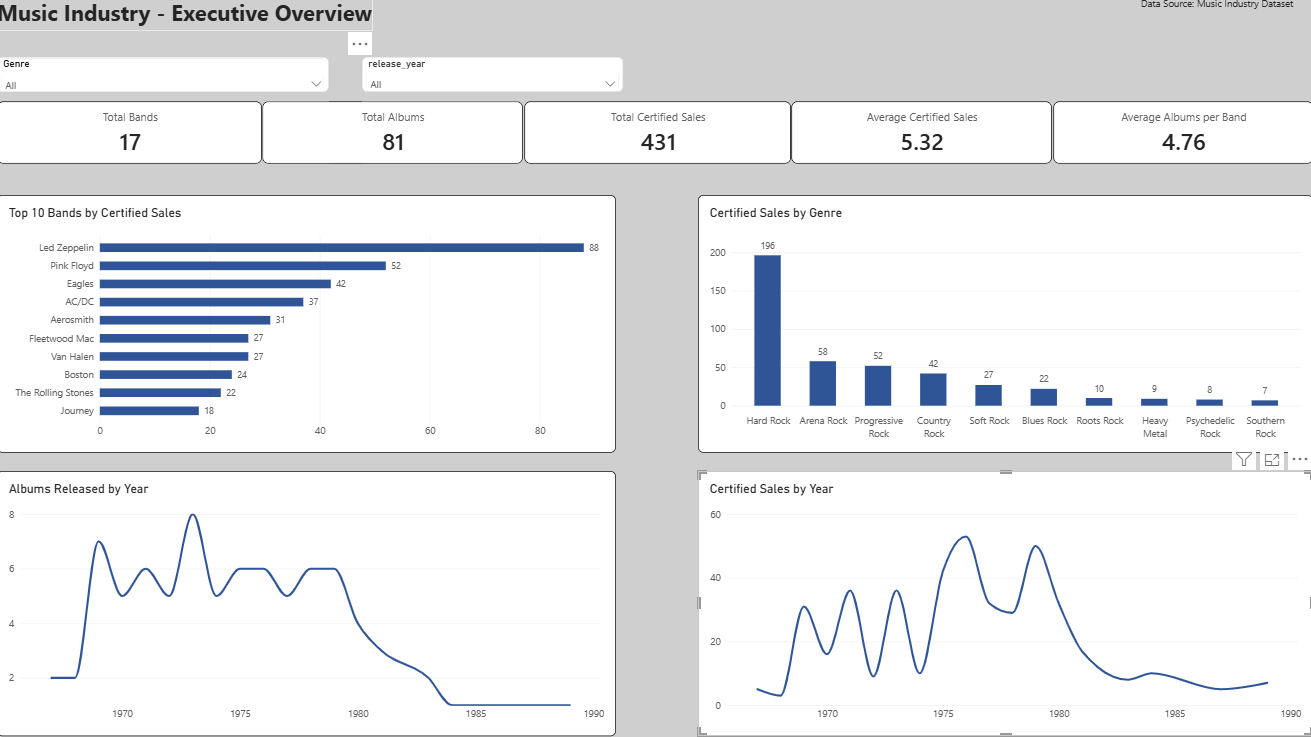

The page's visual inventory and layout, read from the dashboard file:
{"tool":"powerbi","page":{"name":"Page 1","canvas":[1920,1080],"ordinal":0},"visuals":[{"type":"cardVisual","fields":{"Data":["_Measures.Total Albums"]},"box":[387.1,151.4,381.4,92.9],"z":0},{"type":"cardVisual","fields":{"Data":["_Measures.Average Albums per Band"]},"box":[1540,151.4,380,92.9],"z":1000},{"type":"cardVisual","fields":{"Data":["_Measures.Average Certified Sales"]},"box":[1158.6,151.4,381.4,92.9],"z":2000},{"type":"cardVisual","fields":{"Data":["_Measures.Total Bands"]},"box":[0,151.4,387.1,92.9],"z":3000},{"type":"cardVisual","fields":{"Data":["_Measures.Total Certified Sales"]},"box":[768.6,151.4,390,92.9],"z":4000},{"type":"textbox","box":[0,0,548.6,49.6],"z":4001},{"type":"clusteredBarChart","title":"Top 10 Bands by Certified Sales","fields":{"Category":["bands.band_name"],"Y":["_Measures.Total Certified Sales"]},"box":[0,307.8,891.4,357.1],"z":4002},{"type":"clusteredColumnChart","title":"Certified Sales by Genre","fields":{"Category":["bands.subgenre"],"Y":["_Measures.Total Certified Sales"]},"box":[1035.9,307.8,884.3,357.1],"z":4003},{"type":"lineChart","title":"Albums Released by Year","fields":{"Category":["albums.release_year"],"Y":["_Measures.Total Albums"]},"box":[0,691.6,891.4,387.1],"z":4004},{"type":"lineChart","title":"Certified Sales by Year","fields":{"Category":["albums.release_year"],"Y":["_Measures.Total Certified Sales"]},"box":[1035.9,691.6,884.3,387.1],"z":4005},{"type":"slicer","fields":{"Values":["bands.Genre"]},"box":[0,87.5,484.4,51.1],"z":4006},{"type":"slicer","fields":{"Values":["albums.release_year"]},"box":[532.5,87.5,380.8,51.1],"z":4007},{"type":"textbox","box":[1639.9,0,280.1,24.8],"z":4008}]}

Visuals, with their boxes in screenshot pixels (x1, y1, x2, y2), scaled from the page's 1920x1080 canvas onto the 1311x737 screenshot:
cardVisual - _Measures.Total Albums: 264:103:525:167
cardVisual - _Measures.Average Albums per Band: 1052:103:1310:167
cardVisual - _Measures.Average Certified Sales: 791:103:1052:167
cardVisual - _Measures.Total Bands: 0:103:264:167
cardVisual - _Measures.Total Certified Sales: 525:103:791:167
textbox: 0:0:375:34
"Top 10 Bands by Certified Sales" clusteredBarChart: 0:210:609:454
"Certified Sales by Genre" clusteredColumnChart: 707:210:1310:454
"Albums Released by Year" lineChart: 0:472:609:736
"Certified Sales by Year" lineChart: 707:472:1310:736
slicer - bands.Genre: 0:60:331:95
slicer - albums.release_year: 364:60:624:95
textbox: 1120:0:1310:17
